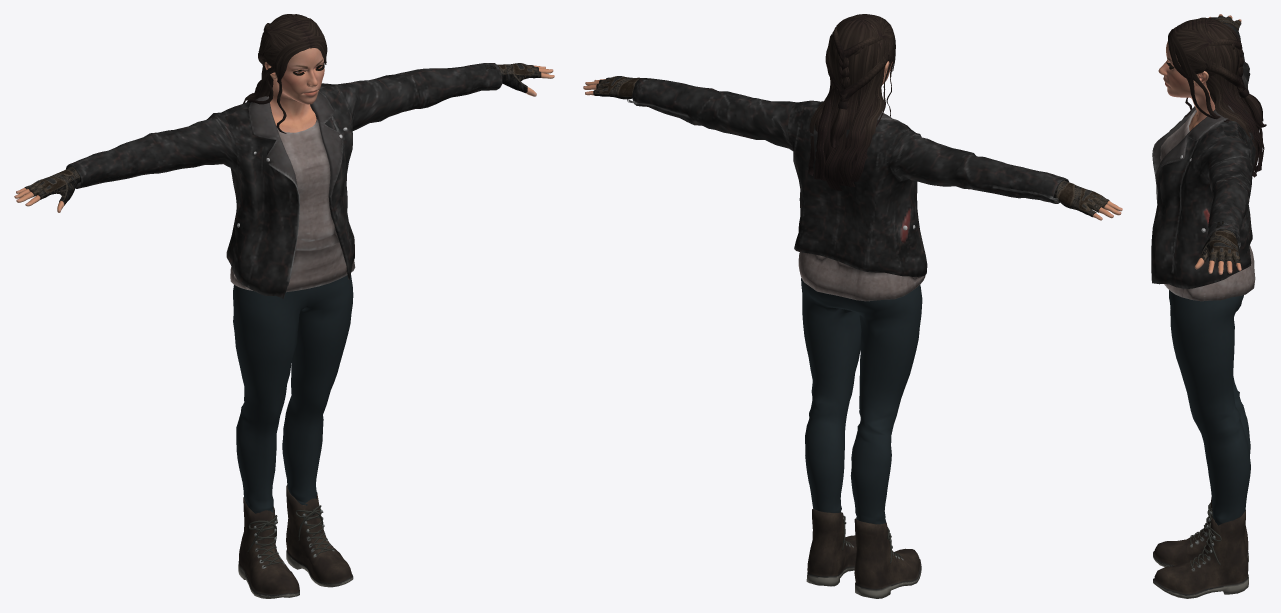
The model's file is Player.obj.
3 views of the same model, side by side, from view 1: azimuth 30°, elevation 25°; view 2: azimuth 150°, elevation 25°; view 3: azimuth 270°, elevation 25° (orthographic).
Parts seen in each view (by area): view 1: Tops, Bottoms, Shoes, Body, Hair, Gloves; view 2: Tops, Bottoms, Hair, Shoes, Gloves; view 3: Tops, Bottoms, Hair, Shoes, Body, Gloves.
Boxes of the visible parts, x1,y1,x2,y2 form: Tops: (66,63,502,298); Bottoms: (233,275,353,514); Shoes: (238,485,353,598); Body: (14,48,554,212); Hair: (243,14,327,133); Gloves: (24,63,541,205); Tops: (627,78,1068,301); Bottoms: (801,278,922,524); Hair: (808,14,895,190); Shoes: (806,509,921,598); Gloves: (593,76,1109,217); Tops: (1151,22,1255,301); Bottoms: (1169,290,1250,532); Hair: (1168,17,1266,177); Shoes: (1153,497,1248,598); Body: (1158,14,1241,274); Gloves: (1199,15,1241,265).
Bounding box in the file's own units: 179 × 179 × 33.8.
Materials: 1 (1 with a texture image).
